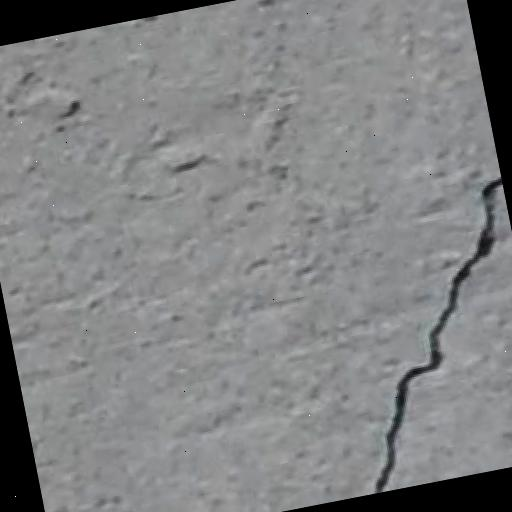spalling: (360, 169, 500, 490)
